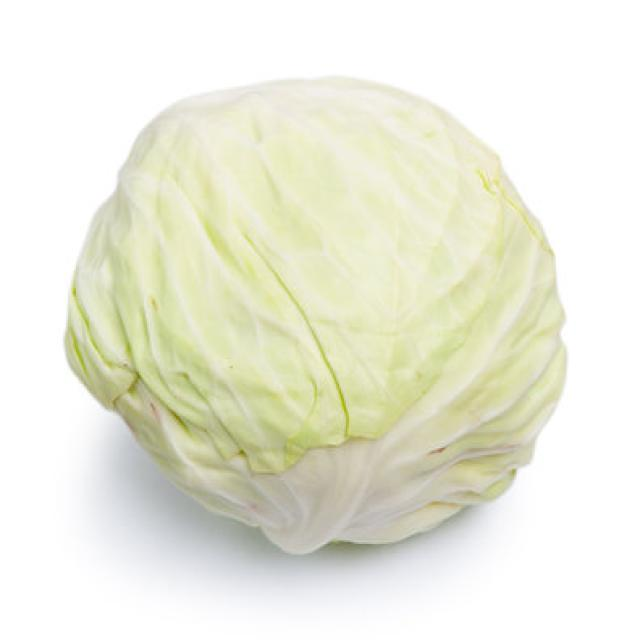Cabbage: (61, 73, 568, 555)
